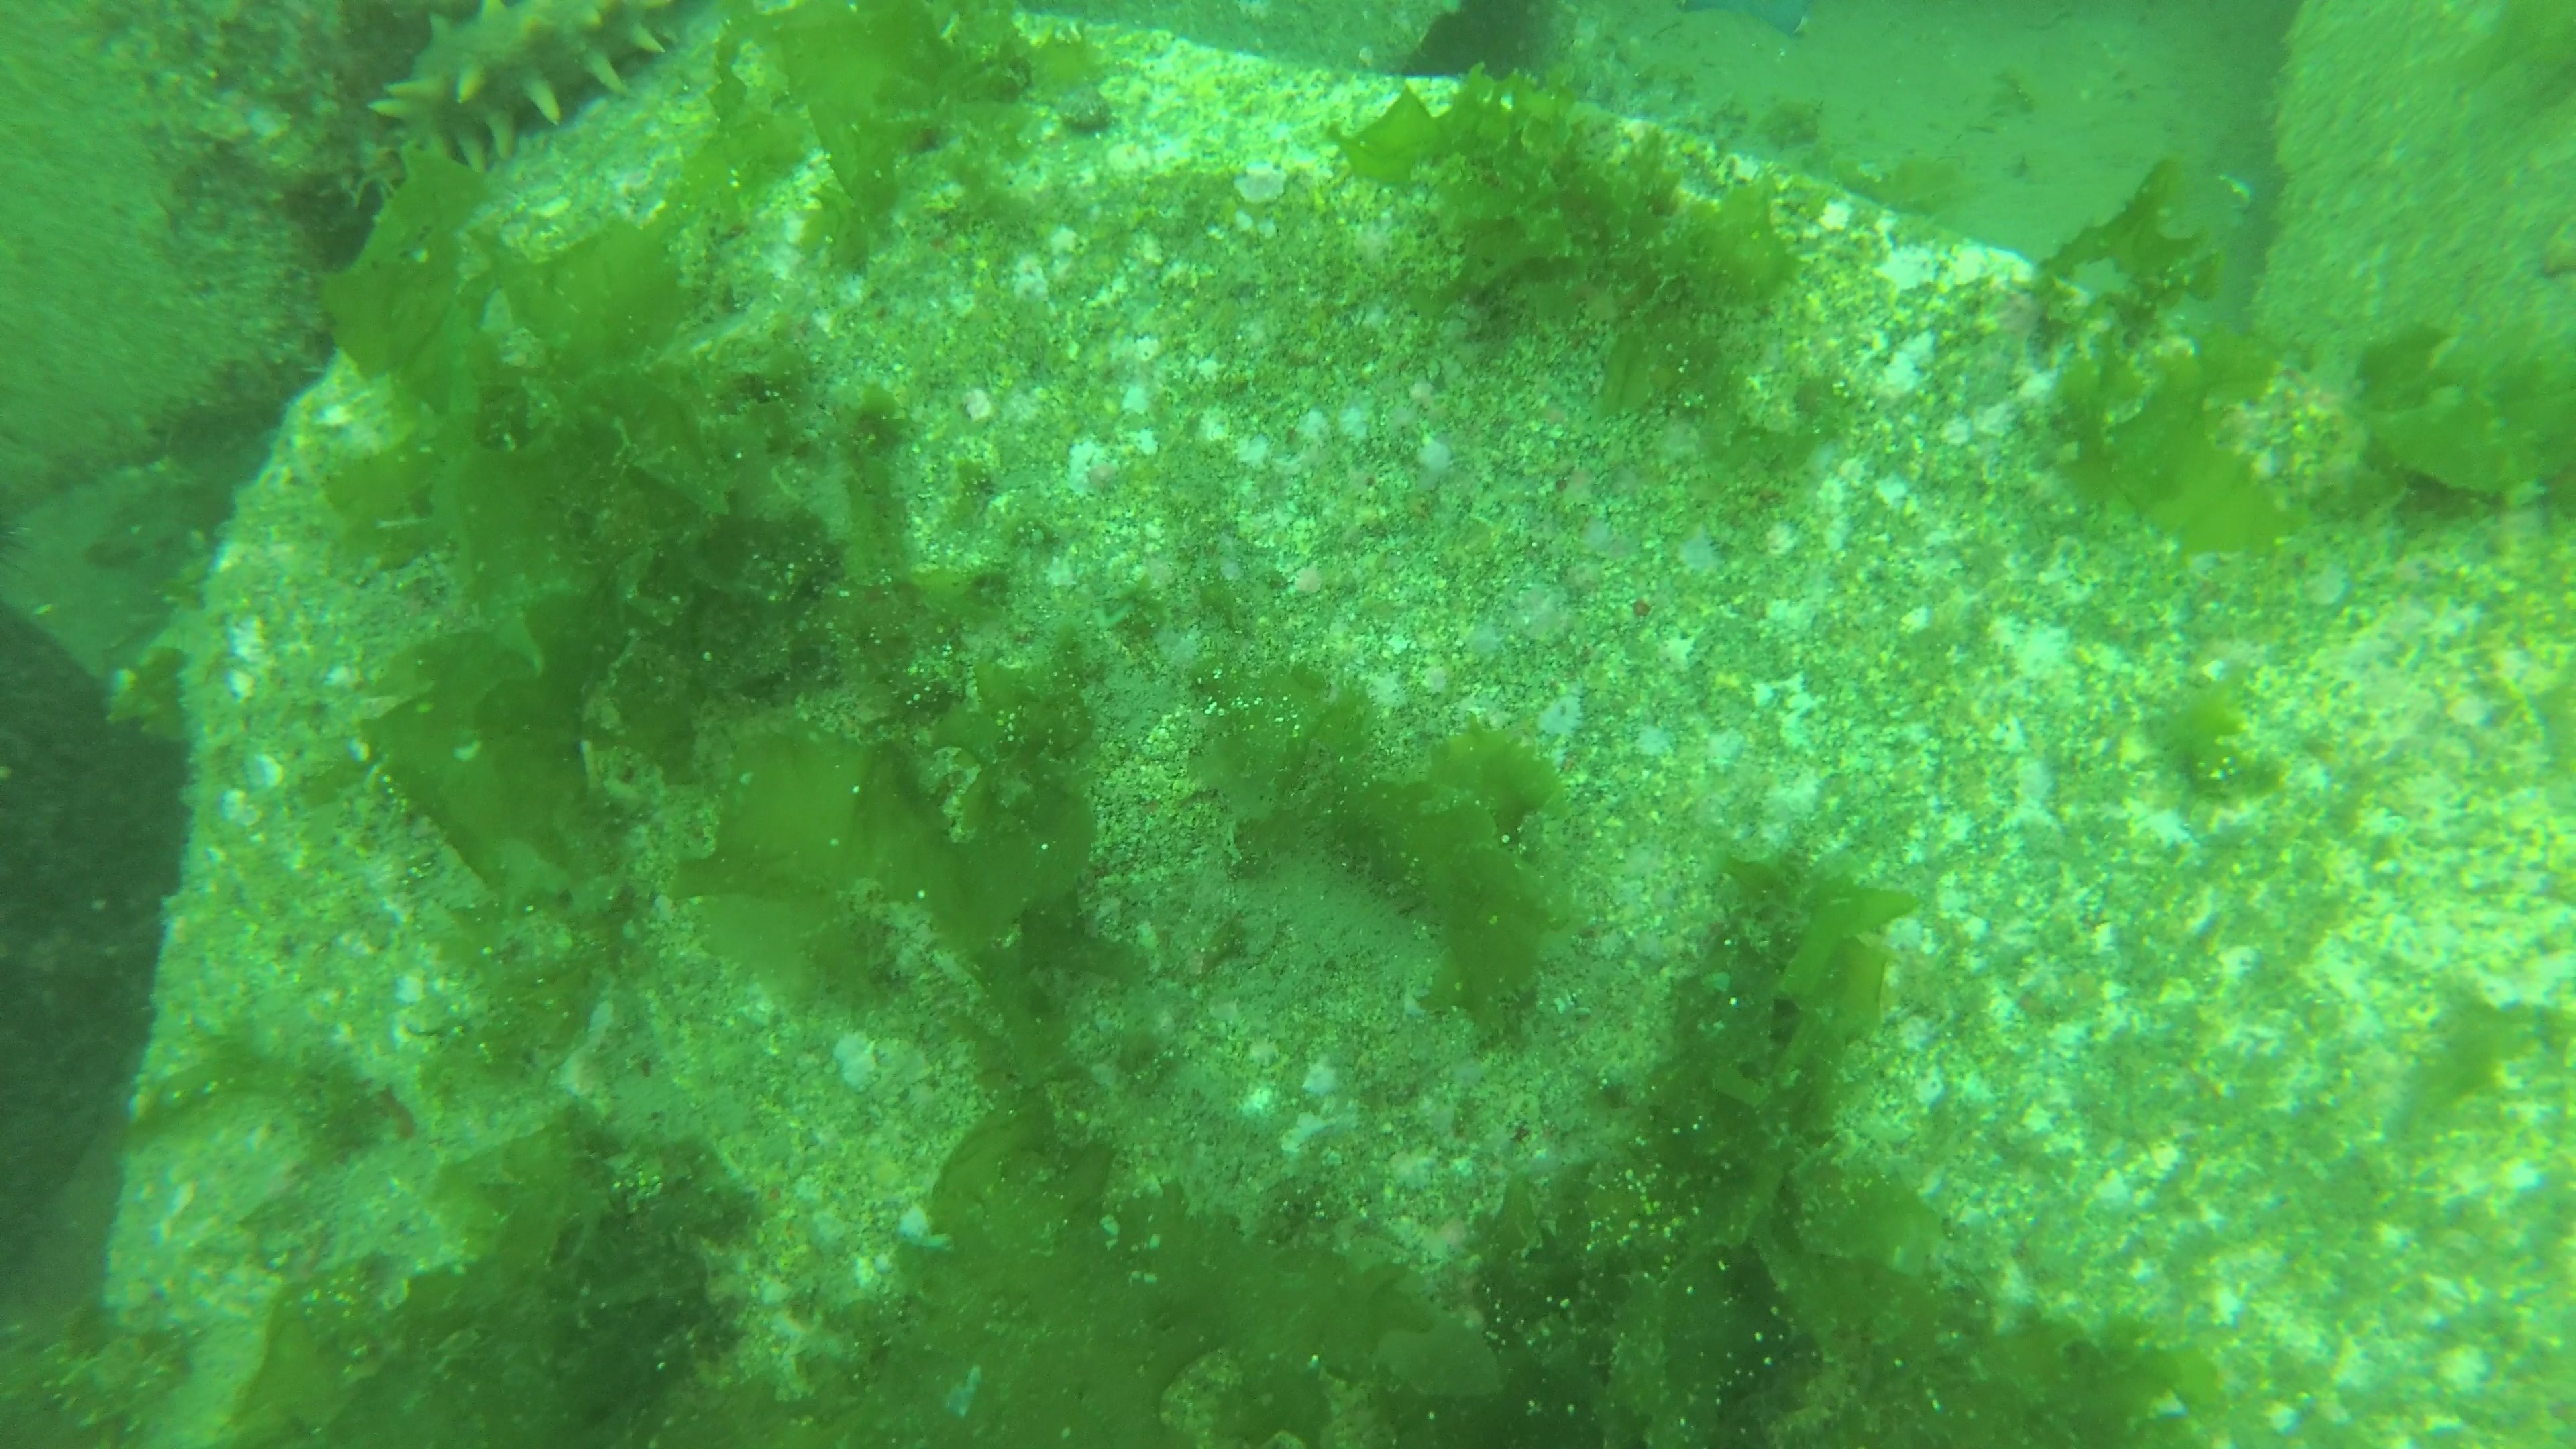holothurian: (368, 0, 690, 179)
starfish: (1670, 0, 1824, 35)
